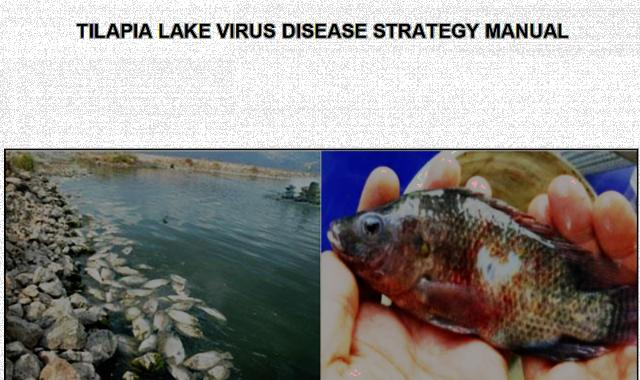Tilapia Lake Virus -TiLV-: (329, 188, 636, 361)
